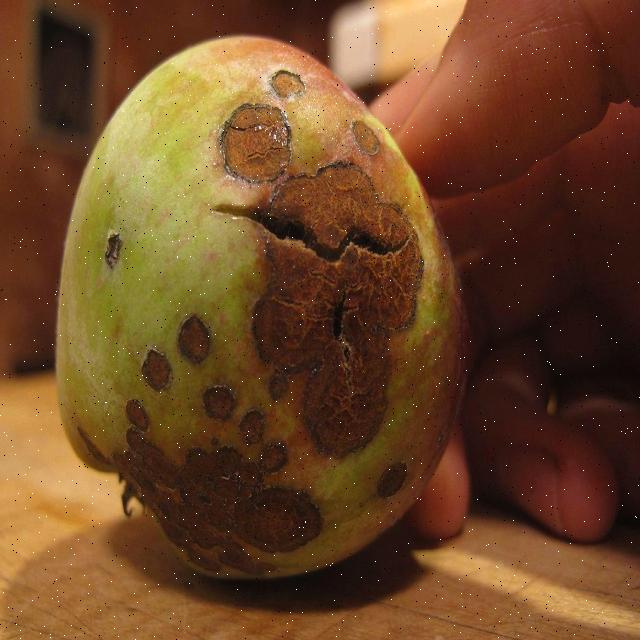rotten apple: (39, 14, 482, 611)
